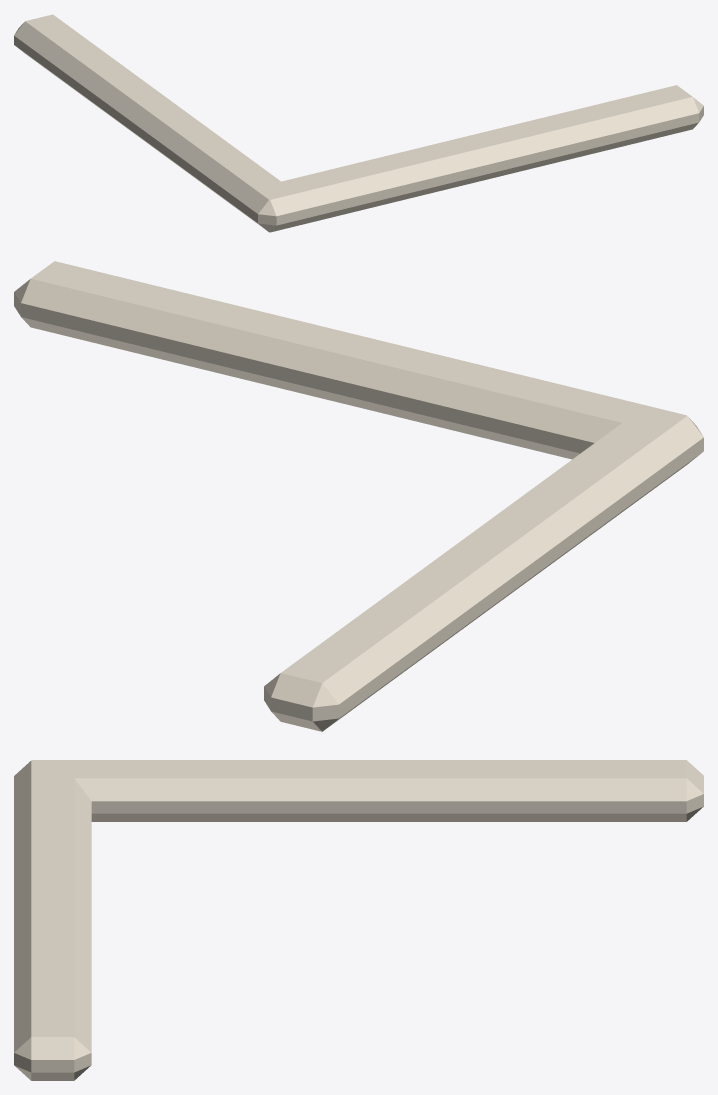
3 views of the same model, one above another, from view 1: azimuth 30°, elevation 25°; view 2: azimuth 150°, elevation 25°; view 3: azimuth 270°, elevation 25° (orthographic). The views are drawn at different scales.
Parts seen in each view (by area): view 1: LOD2_PLAZA_EDGE_CORNER_4M_CurbX, LOD2_PLAZA_EDGE_CORNER_4M_CurbY; view 2: LOD2_PLAZA_EDGE_CORNER_4M_CurbX, LOD2_PLAZA_EDGE_CORNER_4M_CurbY; view 3: LOD2_PLAZA_EDGE_CORNER_4M_CurbY, LOD2_PLAZA_EDGE_CORNER_4M_CurbX.
Part boxes in pixels (bbox=[...]): LOD2_PLAZA_EDGE_CORNER_4M_CurbX: bbox=[254, 85, 703, 232]; LOD2_PLAZA_EDGE_CORNER_4M_CurbY: bbox=[14, 14, 295, 232]; LOD2_PLAZA_EDGE_CORNER_4M_CurbX: bbox=[14, 261, 701, 459]; LOD2_PLAZA_EDGE_CORNER_4M_CurbY: bbox=[264, 411, 703, 731]; LOD2_PLAZA_EDGE_CORNER_4M_CurbY: bbox=[32, 760, 703, 821]; LOD2_PLAZA_EDGE_CORNER_4M_CurbX: bbox=[14, 760, 91, 1080].
Size of what is drawn, in the model's own units: 4 by 0.28 by 4.01.
